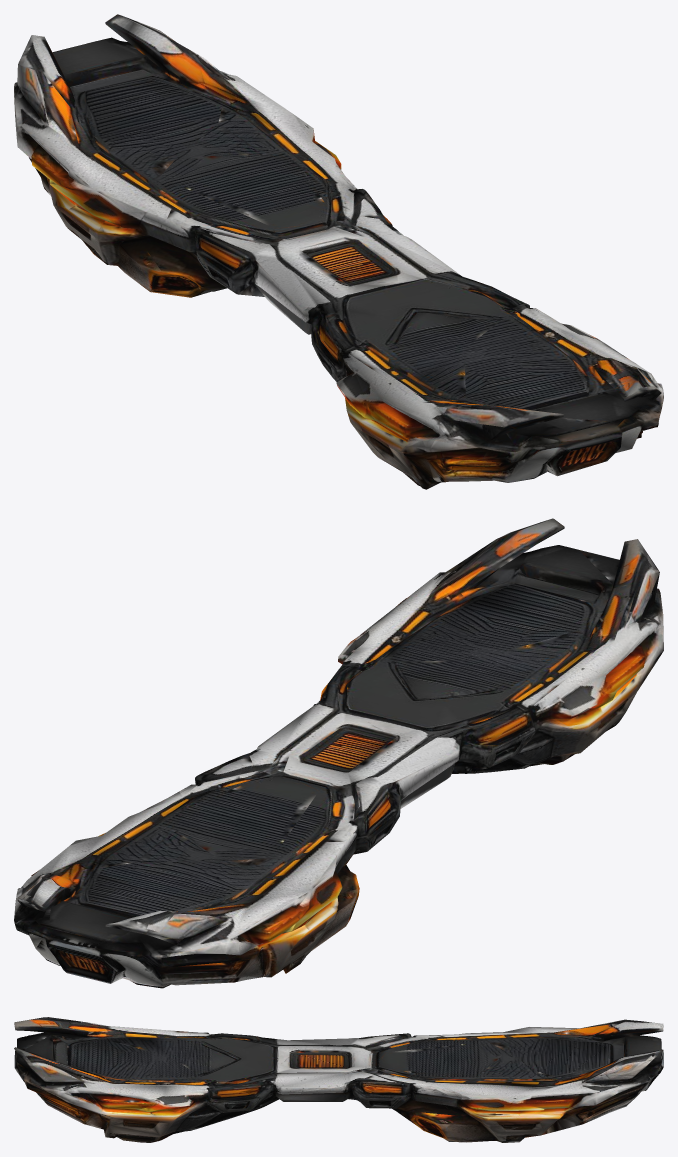
Rendered from hover-skate.glb.
The picture shows the model from 3 angles, top to bottom: view 1: azimuth 30°, elevation 25°; view 2: azimuth 150°, elevation 25°; view 3: azimuth 270°, elevation 25°; orthographic projection. The views are drawn at different scales.
Parts seen in each view (by area): view 1: node_0; view 2: node_0; view 3: node_0.
Boxes of the visible parts, x1,y1,x2,y2 form: node_0: (14,14,663,489); node_0: (14,518,663,988); node_0: (14,1017,663,1142).
Size of the model in its own units: 0.3256 by 0.1668 by 1.18.
1 material, 1 textured.
